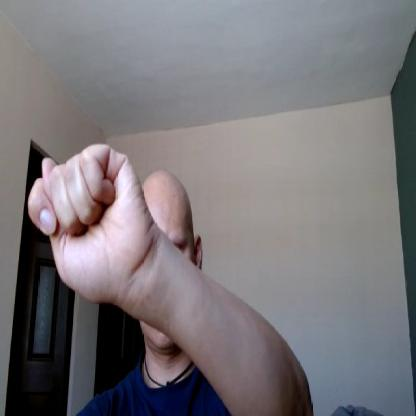T: (26, 143, 148, 306)
